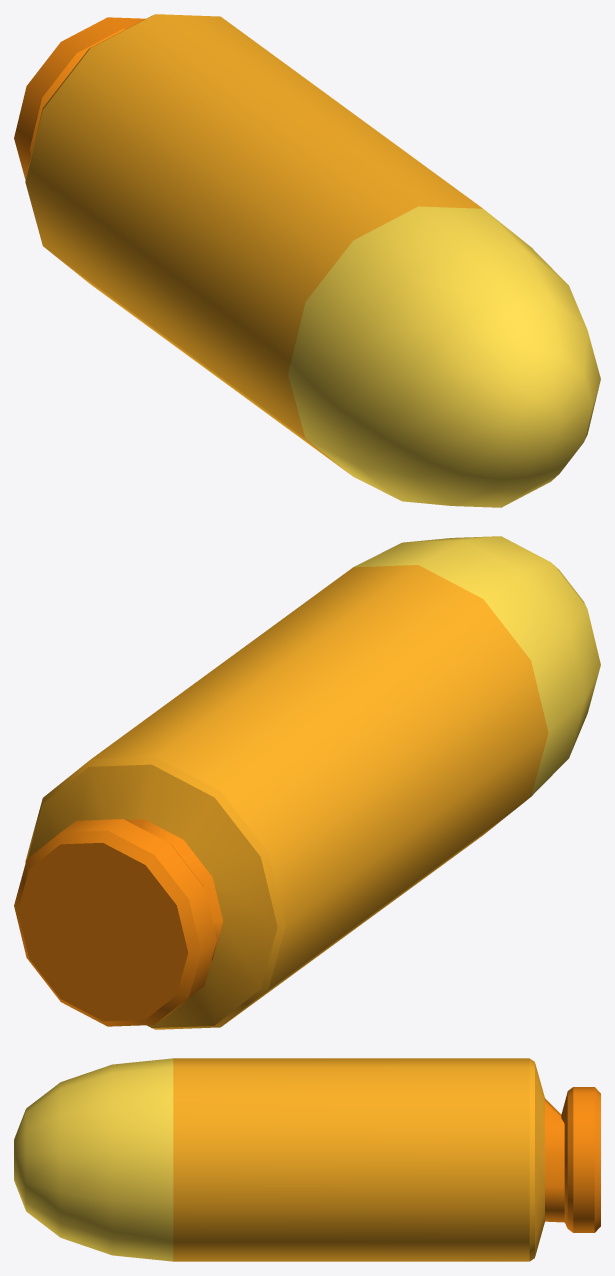
Rendered from Bullet.fbx.
The picture shows the model from 3 angles, top to bottom: view 1: azimuth 30°, elevation 25°; view 2: azimuth 150°, elevation 25°; view 3: azimuth 270°, elevation 25°; orthographic projection. The views are drawn at different scales.
Parts seen in each view (by area): view 1: Bullet; view 2: Bullet; view 3: Bullet.
Boxes of the visible parts, <box> form: Bullet: <box>14,14,600,507</box>; Bullet: <box>14,536,600,1029</box>; Bullet: <box>14,1058,600,1261</box>.
Size of the model in its own units: 10.22 by 10.22 by 29.39.
